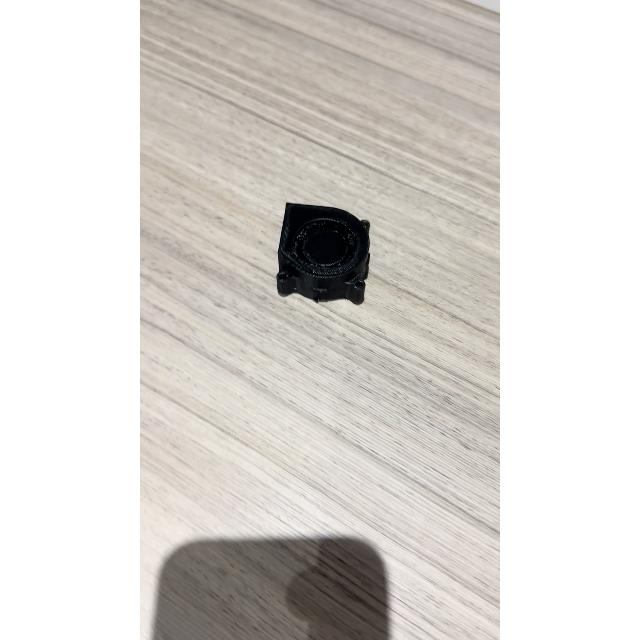Pieza_3: (266, 191, 380, 317)
